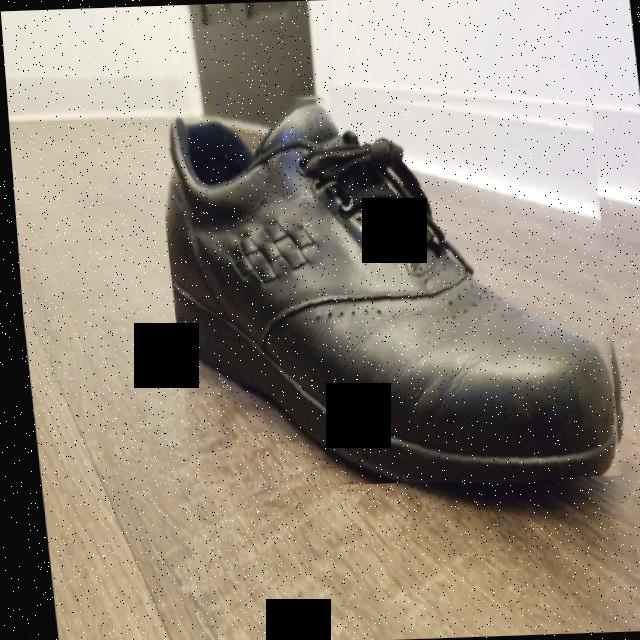shoe: (149, 81, 626, 490)
